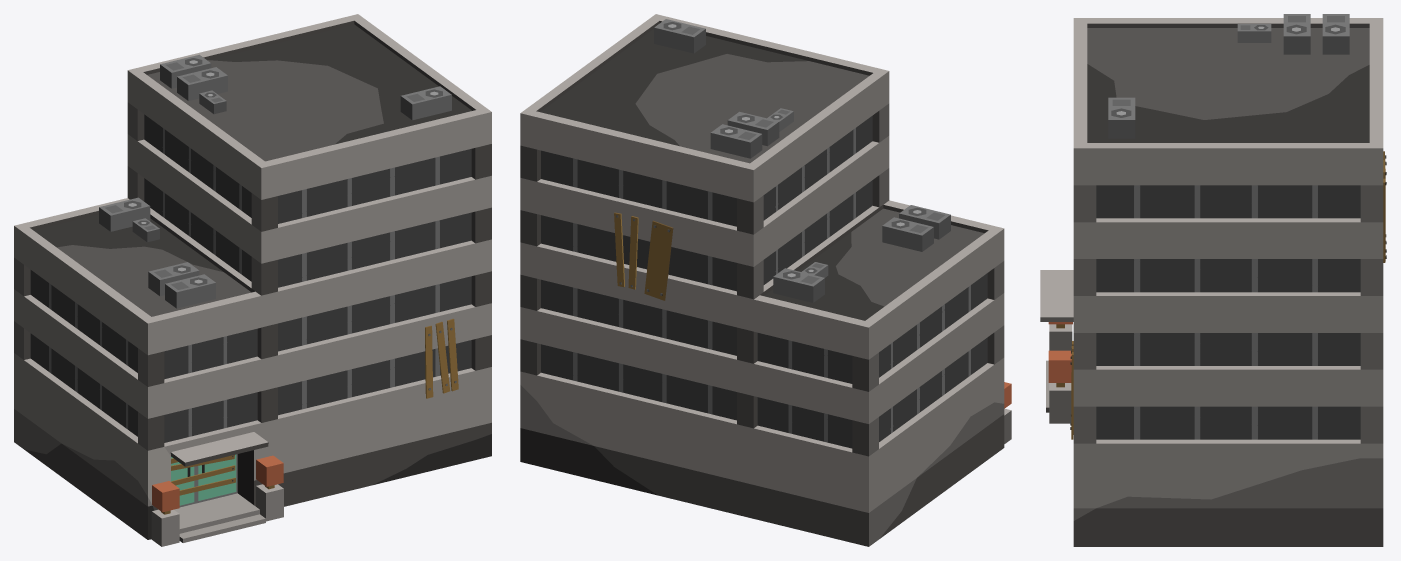
Rendered from SA_Bld_OfficeGrey_04.gltf.
3 renders of one model, left to right at view 1: azimuth 30°, elevation 25°; view 2: azimuth 150°, elevation 25°; view 3: azimuth 270°, elevation 25°, orthographic. The views are drawn at different scales.
Visible parts, largest first — view 1: SA_Bld_OfficeGrey_04; view 2: SA_Bld_OfficeGrey_04; view 3: SA_Bld_OfficeGrey_04.
Boxes of the visible parts, x1,y1,x2,y2 form: SA_Bld_OfficeGrey_04: (14, 14, 491, 546); SA_Bld_OfficeGrey_04: (520, 14, 1011, 546); SA_Bld_OfficeGrey_04: (1040, 14, 1386, 546).
Size of the model in its own units: 20.34 by 20.13 by 15.31.
1 material, 1 textured.
